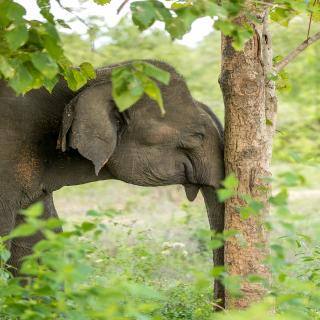Elephant: (3, 49, 231, 314)
